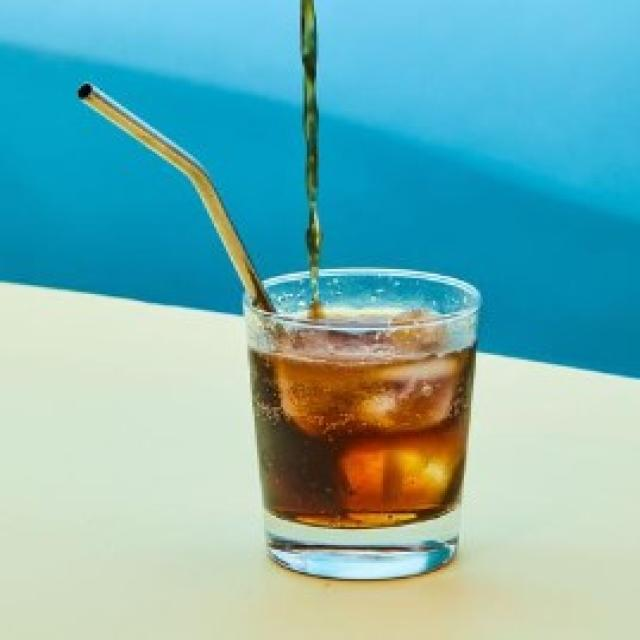electronic: (243, 264, 486, 583)
